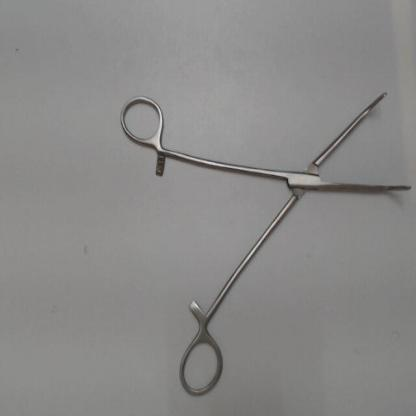Lahey Forceps: (115, 84, 413, 400)
